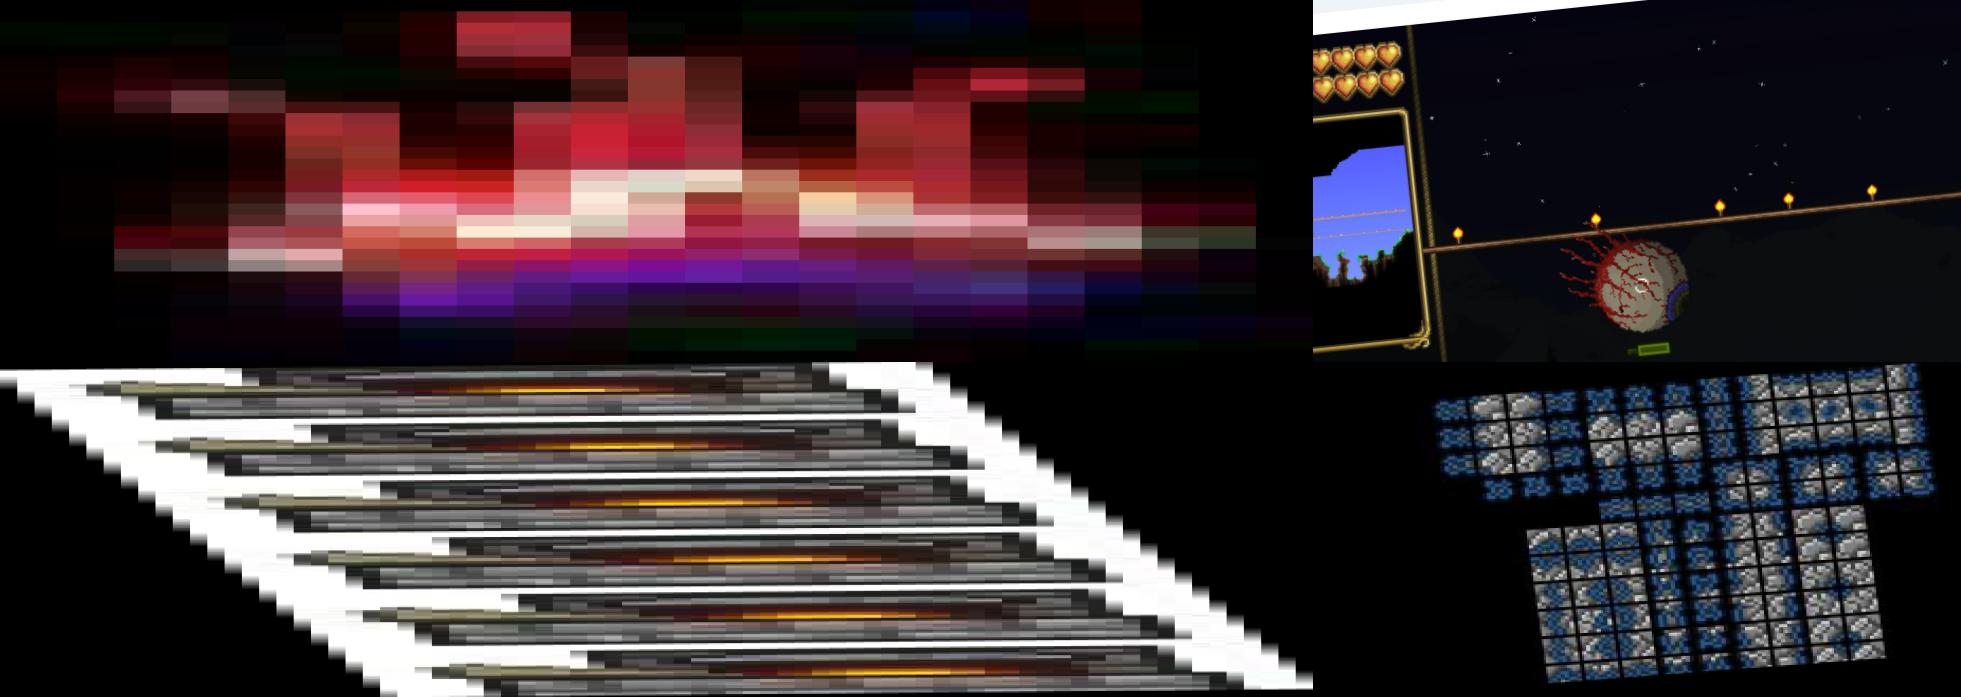eye: (0, 0, 1313, 362)
eyeC: (1548, 209, 1697, 343)
furnace: (51, 362, 950, 422)
stone: (1883, 362, 1923, 390)
